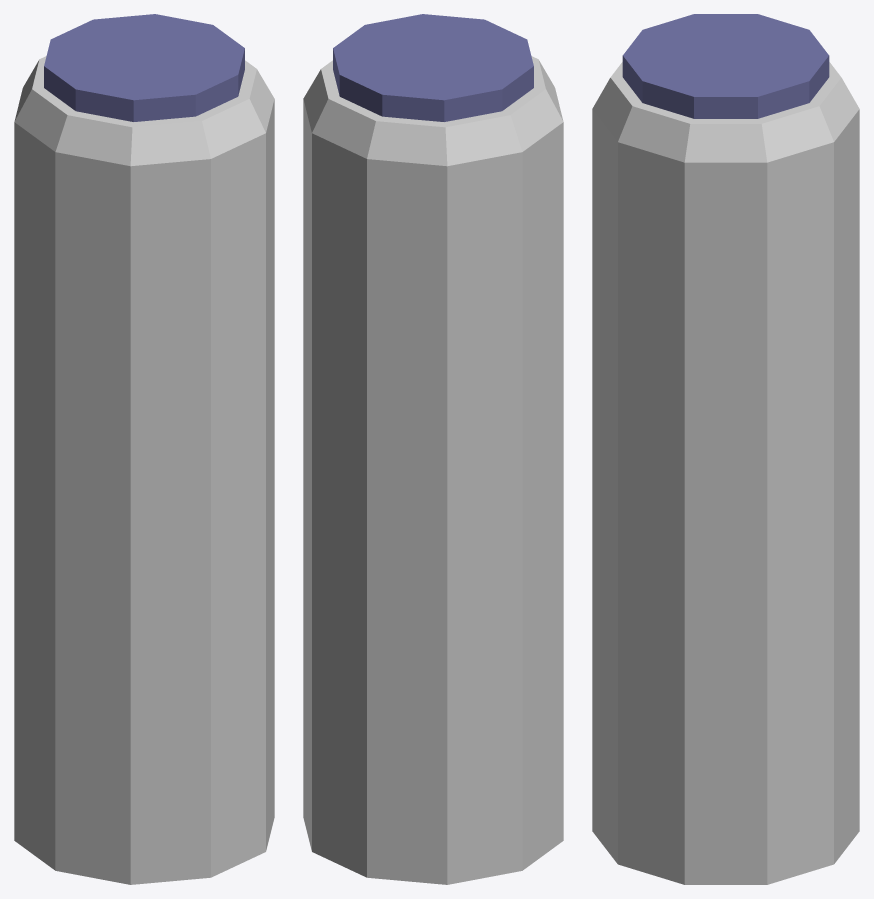
Rendered from drug_drugbottle.fbx.
The picture shows the model from 3 angles, left to right: view 1: azimuth 30°, elevation 25°; view 2: azimuth 150°, elevation 25°; view 3: azimuth 270°, elevation 25°; orthographic projection.
Parts seen in each view (by area): view 1: DrugBody, DrugLid; view 2: DrugBody, DrugLid; view 3: DrugBody, DrugLid.
Part boxes in pixels (bbox=[...]): DrugBody: bbox=[14, 56, 274, 884]; DrugLid: bbox=[44, 14, 244, 121]; DrugBody: bbox=[303, 56, 563, 884]; DrugLid: bbox=[333, 14, 533, 121]; DrugBody: bbox=[592, 62, 859, 884]; DrugLid: bbox=[622, 14, 829, 118].
Bounding box in the file's own units: 28.55 × 97.89 × 30.02.
